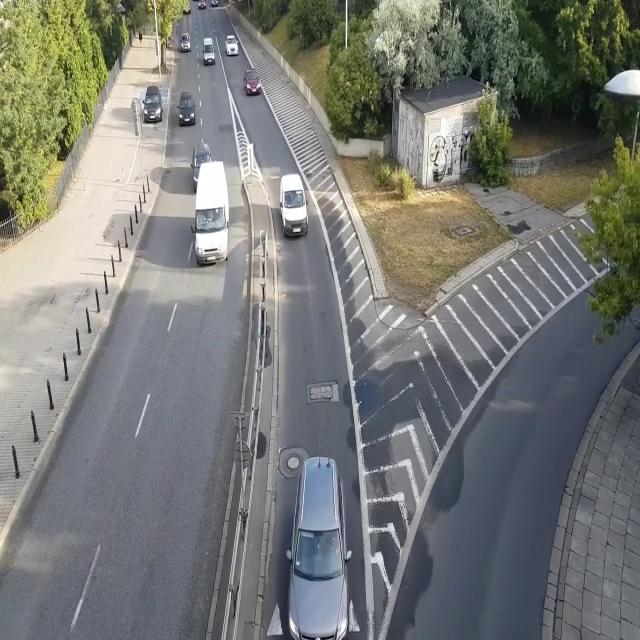car: (284, 457, 354, 640), (191, 142, 212, 192), (176, 89, 197, 126), (142, 86, 163, 122), (243, 68, 262, 96), (224, 34, 238, 56), (180, 32, 192, 53), (182, 4, 191, 15), (198, 0, 206, 10), (211, 0, 218, 7)
van: (191, 161, 230, 265), (279, 173, 309, 237), (202, 36, 216, 66)
